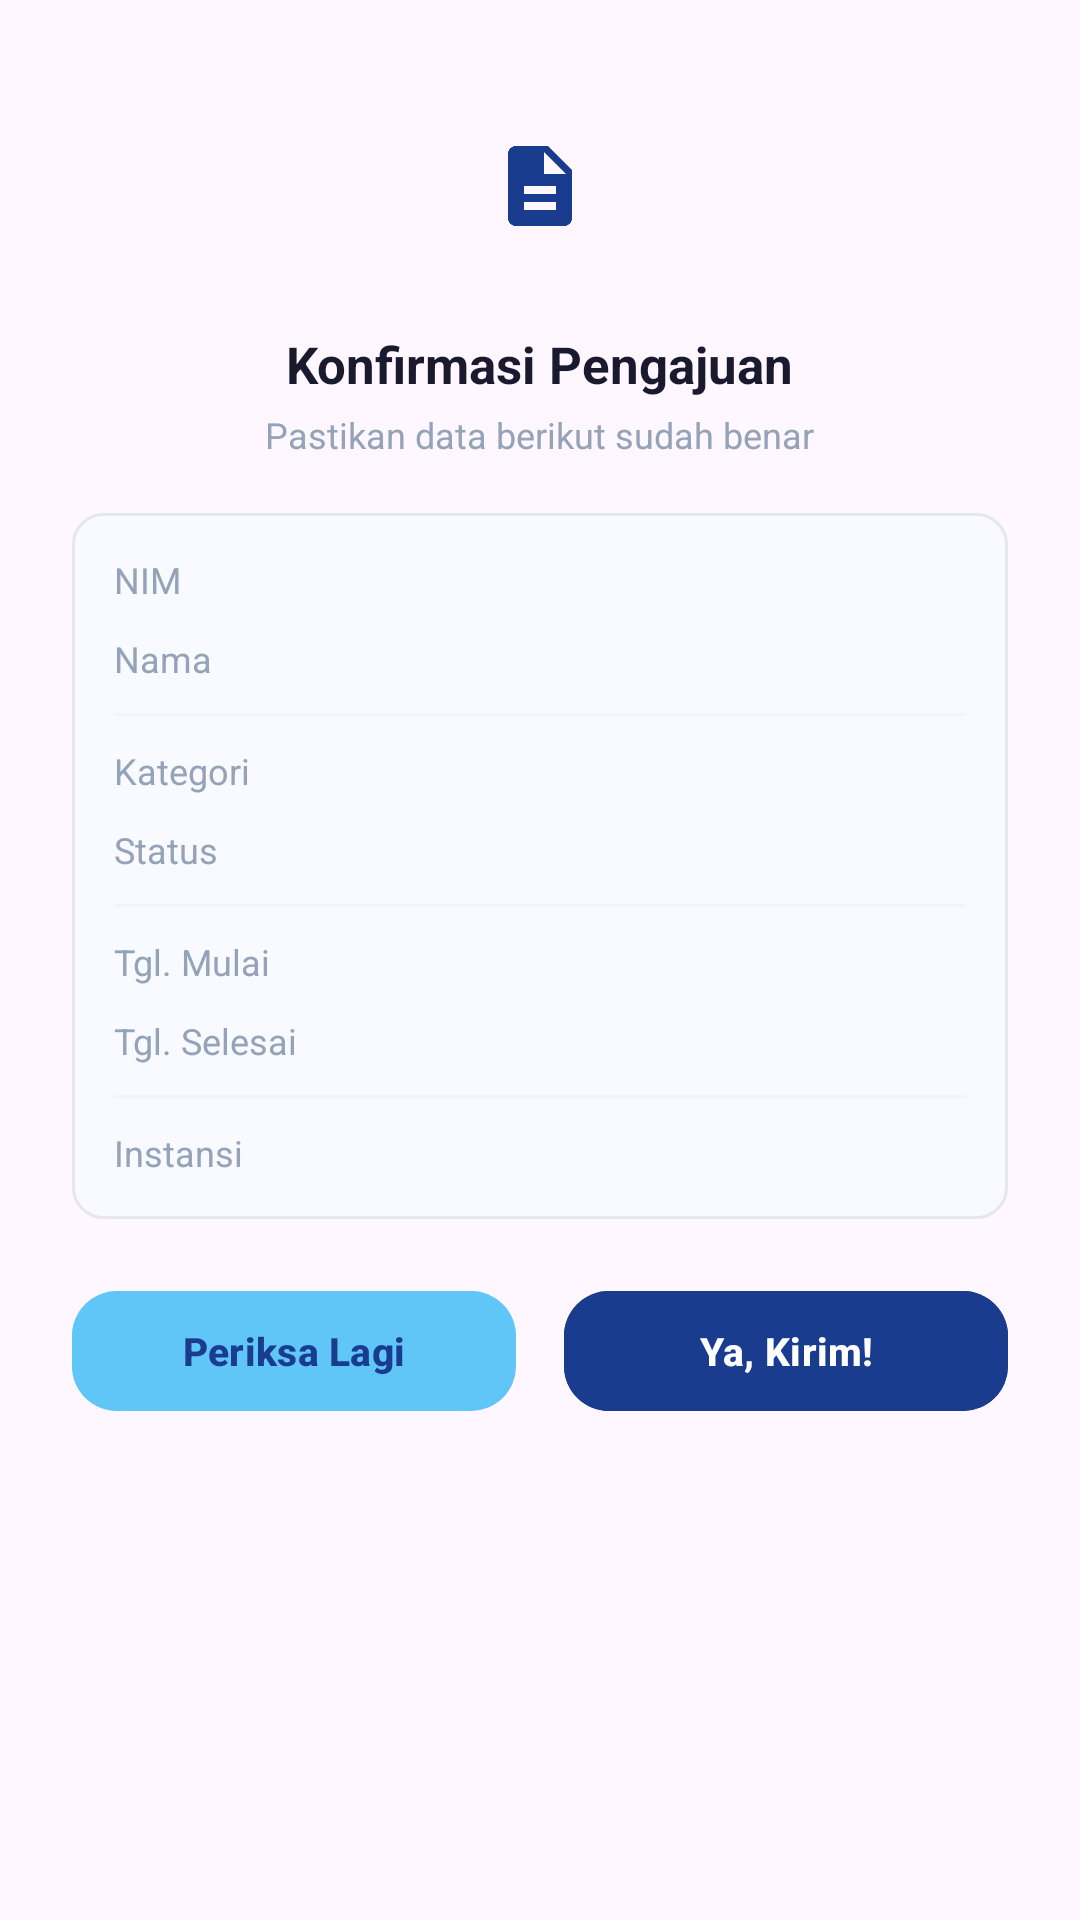

Icon bounding boxes for this 1080w x 1920h phone screenshot, format (x1, y1, x2, y2):
document: (508, 146, 572, 226)
